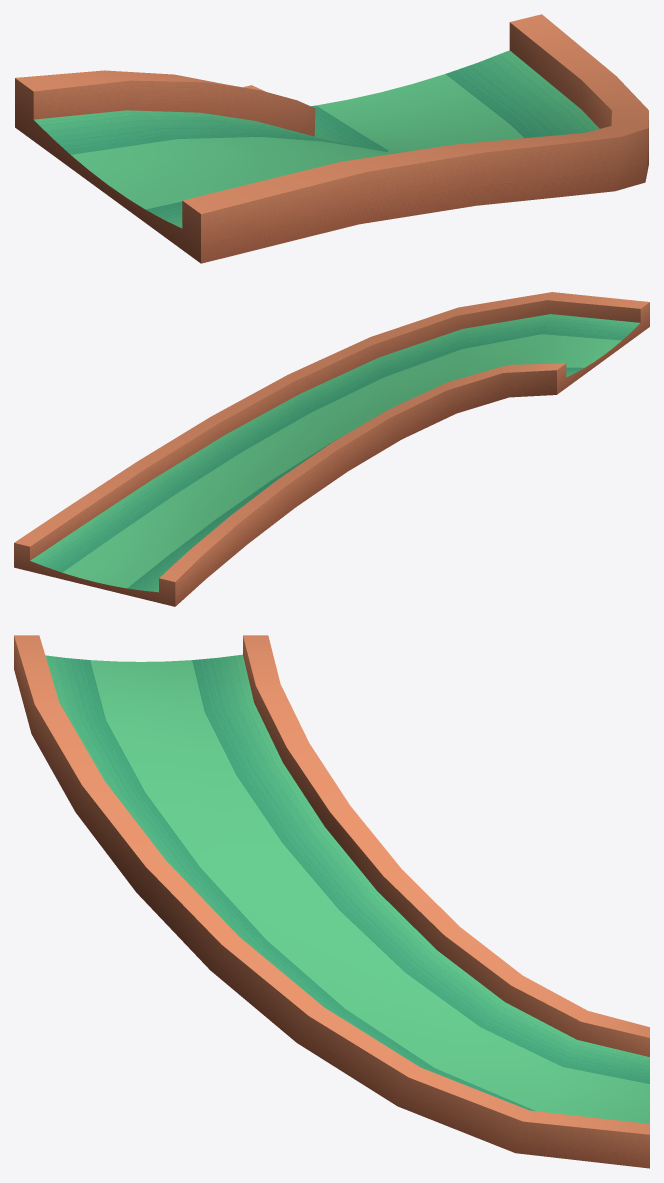
File: spline-concave-corner-small-ramp.glb
3 renders of one model, top to bottom at view 1: azimuth 30°, elevation 25°; view 2: azimuth 150°, elevation 25°; view 3: azimuth 270°, elevation 25°, orthographic. The views are drawn at different scales.
Visible parts, largest first — view 1: spline-concave-corner-small-ramp; view 2: spline-concave-corner-small-ramp; view 3: spline-concave-corner-small-ramp.
Boxes of the visible parts, left/top/right/bottom form: spline-concave-corner-small-ramp: left=15, top=14, right=648, bottom=263; spline-concave-corner-small-ramp: left=14, top=292, right=649, bottom=606; spline-concave-corner-small-ramp: left=14, top=635, right=649, bottom=1168.
Size of the model in its own units: 2.5 by 1.15 by 2.5.
Materials: 1 (1 with a texture image).
